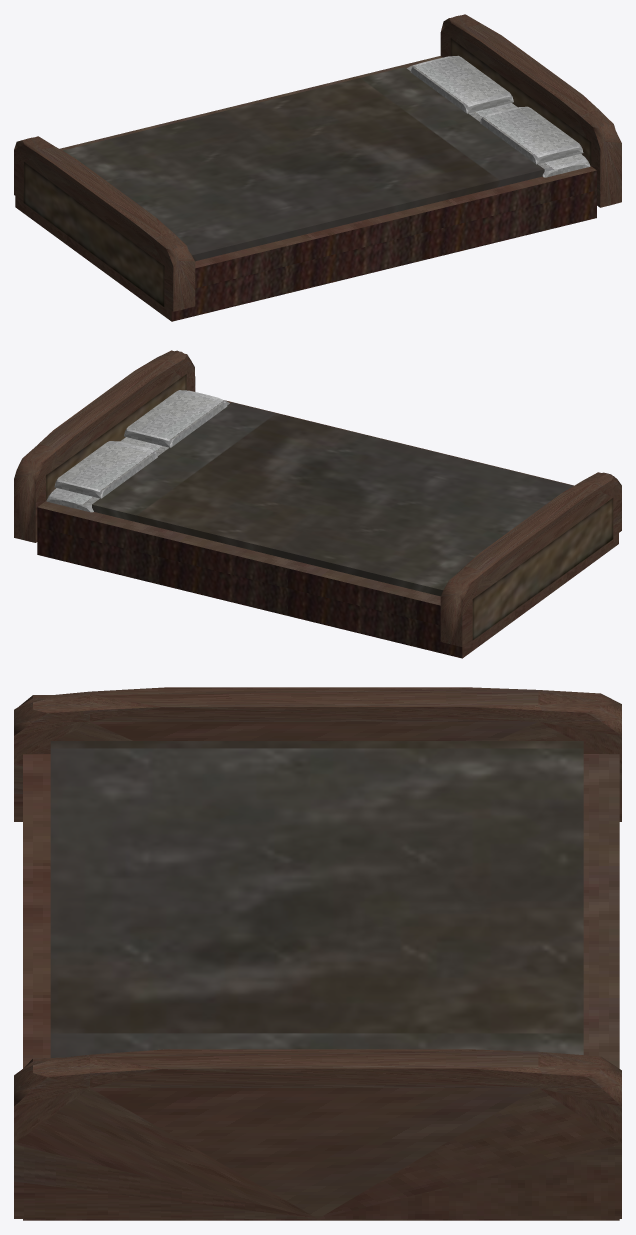
File: bed.glb
3 renders of one model, top to bottom at view 1: azimuth 30°, elevation 25°; view 2: azimuth 150°, elevation 25°; view 3: azimuth 270°, elevation 25°, orthographic. The views are drawn at different scales.
Visible parts, largest first — view 1: Box011, Box010, Box012, Box009, Plane001, Box014, Box015, Plane002, Box013; view 2: Box011, Box010, Box012, Box009, Plane001, Box015, Box014, Plane002, Box013; view 3: Box011, Box009, Box012, Box010.
Part boxes in pixels (x1,y1,x2,y2): Box011: (62, 67, 544, 261); Box010: (15, 56, 596, 321); Box012: (14, 136, 195, 311); Box009: (440, 14, 621, 207); Plane001: (23, 162, 164, 306); Box014: (410, 55, 513, 113); Box015: (480, 106, 583, 164); Plane002: (450, 38, 591, 165); Box013: (407, 64, 590, 177); Box011: (92, 402, 573, 596); Box010: (37, 400, 618, 658); Box012: (440, 472, 621, 646); Box009: (14, 350, 195, 542); Plane001: (472, 498, 613, 640); Box015: (124, 390, 227, 447); Box014: (54, 441, 157, 498); Plane002: (46, 374, 186, 500); Box013: (46, 400, 229, 512); Box011: (50, 741, 583, 1057); Box009: (14, 1049, 621, 1218); Box012: (14, 687, 621, 821); Box010: (23, 754, 619, 1220).
Bounding box in the file's own units: 1.62 × 0.3138 × 0.9992.
Materials: 5 (5 with a texture image).
